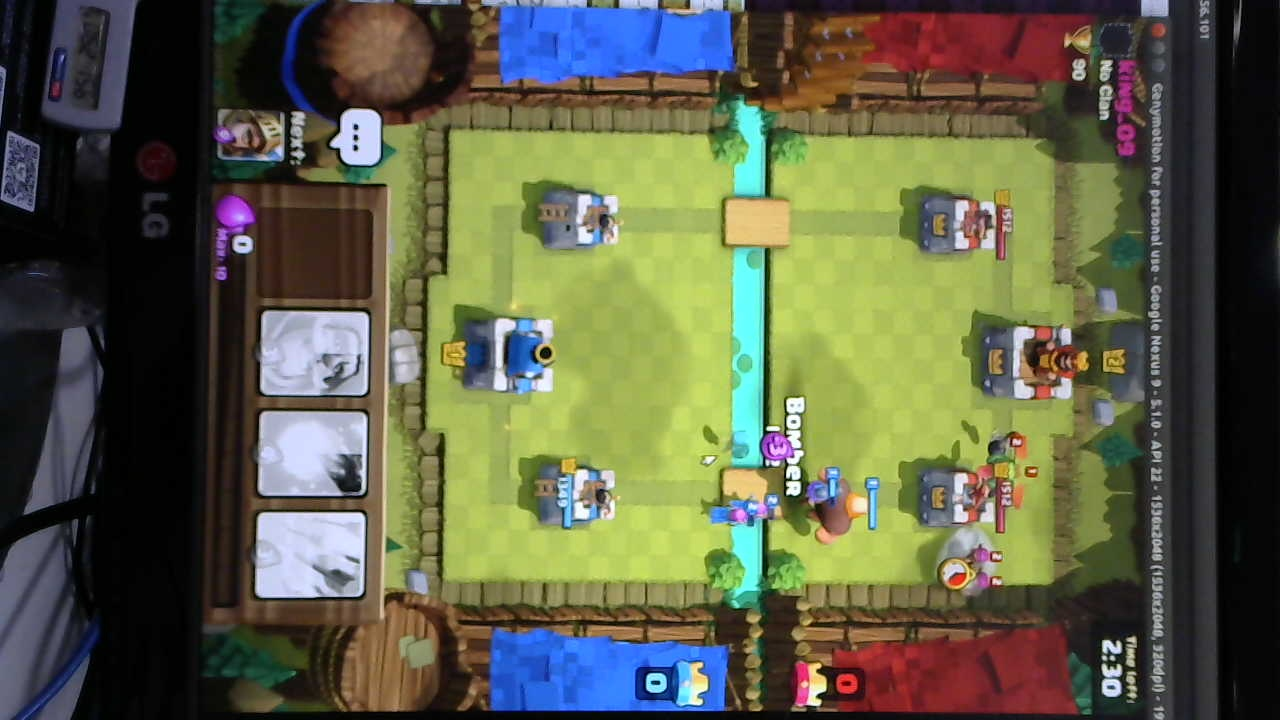archers: (703, 492, 782, 532), (962, 538, 1008, 603)
arena: (539, 460, 614, 529), (546, 189, 622, 251)
bomb: (987, 428, 1037, 461)
dragon: (985, 453, 1029, 517)
earena: (925, 193, 999, 257), (926, 467, 989, 526)
eking: (974, 318, 1085, 400)
giant: (817, 470, 871, 544)
king: (458, 309, 557, 396)
musketeer: (794, 478, 840, 511)
